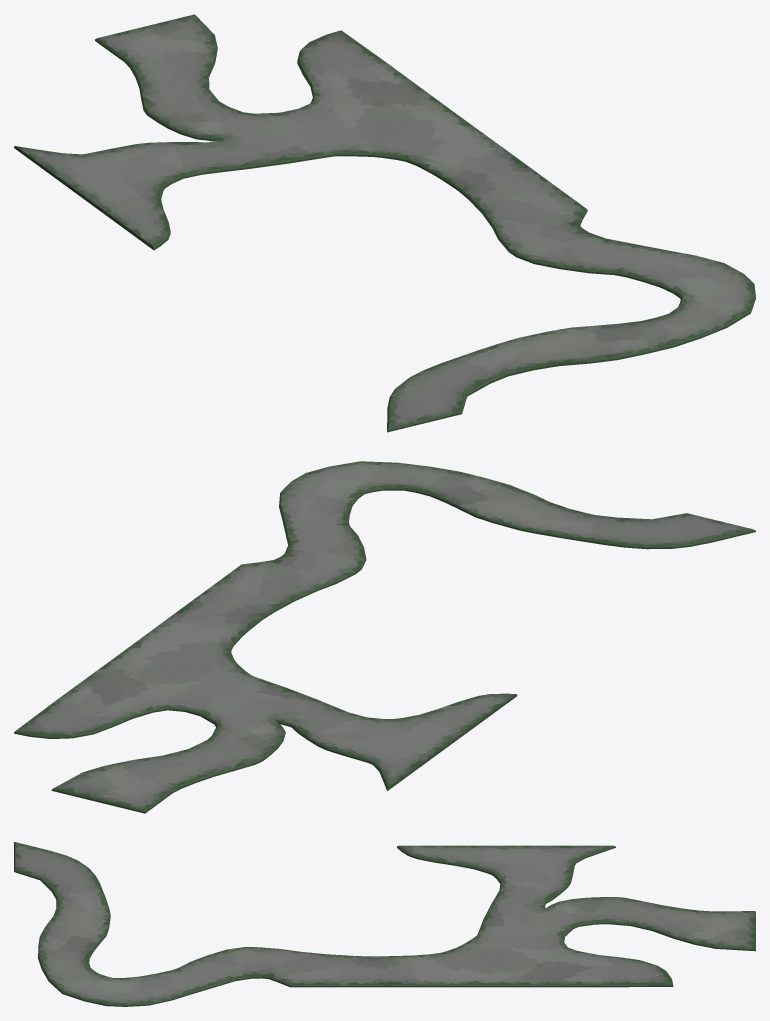
Rendered from PathTestForGameTESTfbx222.fbx.
3 views of the same model, one above another, from view 1: azimuth 30°, elevation 25°; view 2: azimuth 150°, elevation 25°; view 3: azimuth 270°, elevation 25° (orthographic). The views are drawn at different scales.
Visible parts, largest first — view 1: Plane; view 2: Plane; view 3: Plane.
Boxes of the visible parts, left/top/right/bottom form: Plane: left=14, top=14, right=755, bottom=432; Plane: left=14, top=461, right=755, bottom=813; Plane: left=14, top=842, right=755, bottom=1006.
Size of the model in its own units: 1931 by 12.81 by 3700.
Materials: 1 (1 with a texture image).
